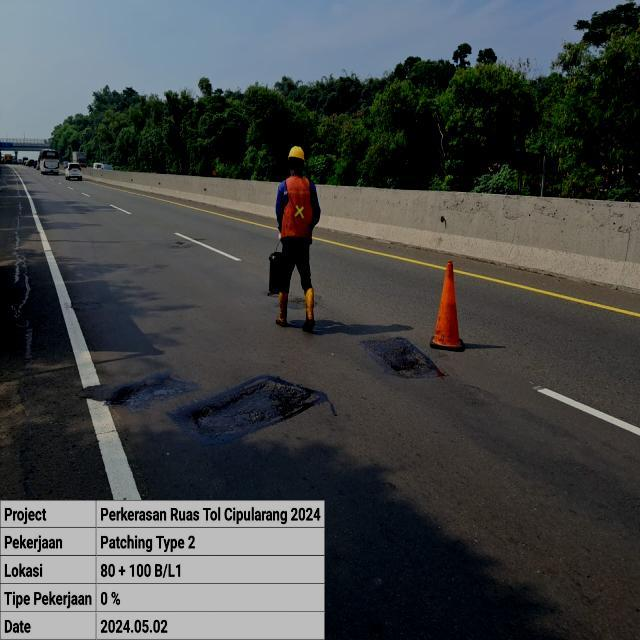Buraco: (188, 376, 311, 446), (355, 334, 452, 382), (103, 374, 197, 414), (69, 300, 103, 312), (288, 295, 306, 306), (172, 239, 188, 247), (191, 236, 208, 242)
